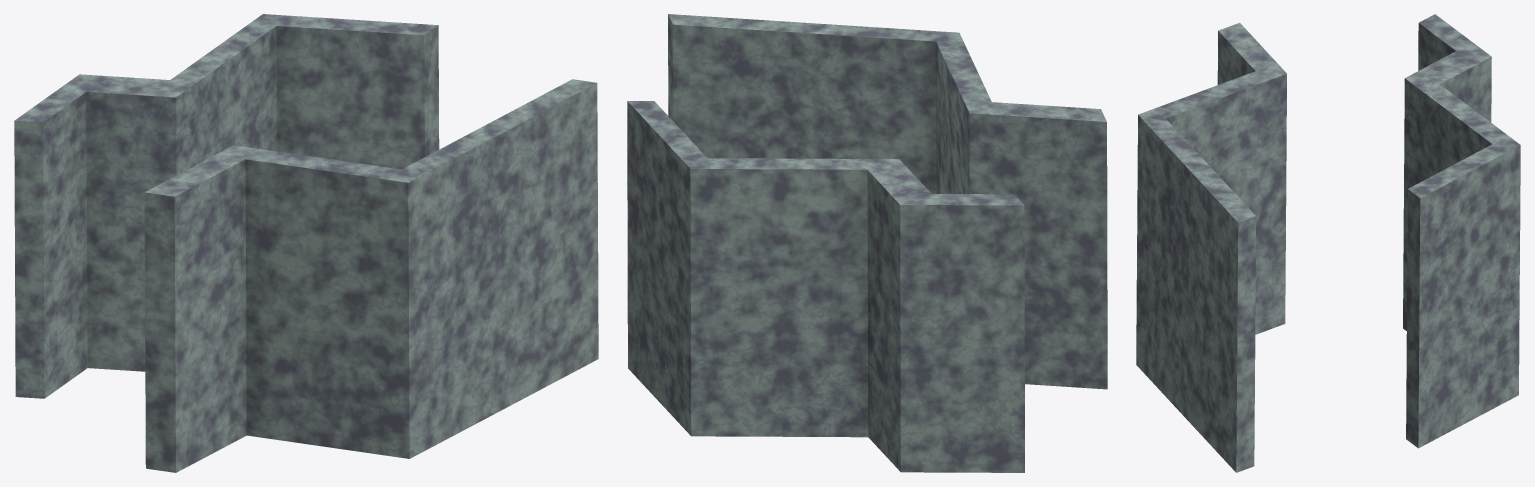
The model's file is Roof4.fbx.
3 views of the same model, side by side, from view 1: azimuth 30°, elevation 25°; view 2: azimuth 150°, elevation 25°; view 3: azimuth 270°, elevation 25° (orthographic). The views are drawn at different scales.
Visible parts, largest first — view 1: Wall1, Wall2; view 2: Wall2, Wall1; view 3: Wall1, Wall2.
Part boxes in pixels (<box>): Wall1: <box>144,79,598,472</box>; Wall2: <box>14,14,439,398</box>; Wall2: <box>627,101,1024,472</box>; Wall1: <box>668,14,1107,389</box>; Wall1: <box>1136,22,1286,472</box>; Wall2: <box>1403,14,1520,448</box>.
Bounding box in the file's own units: 462 × 258 × 357.
2 materials, 2 textured.
